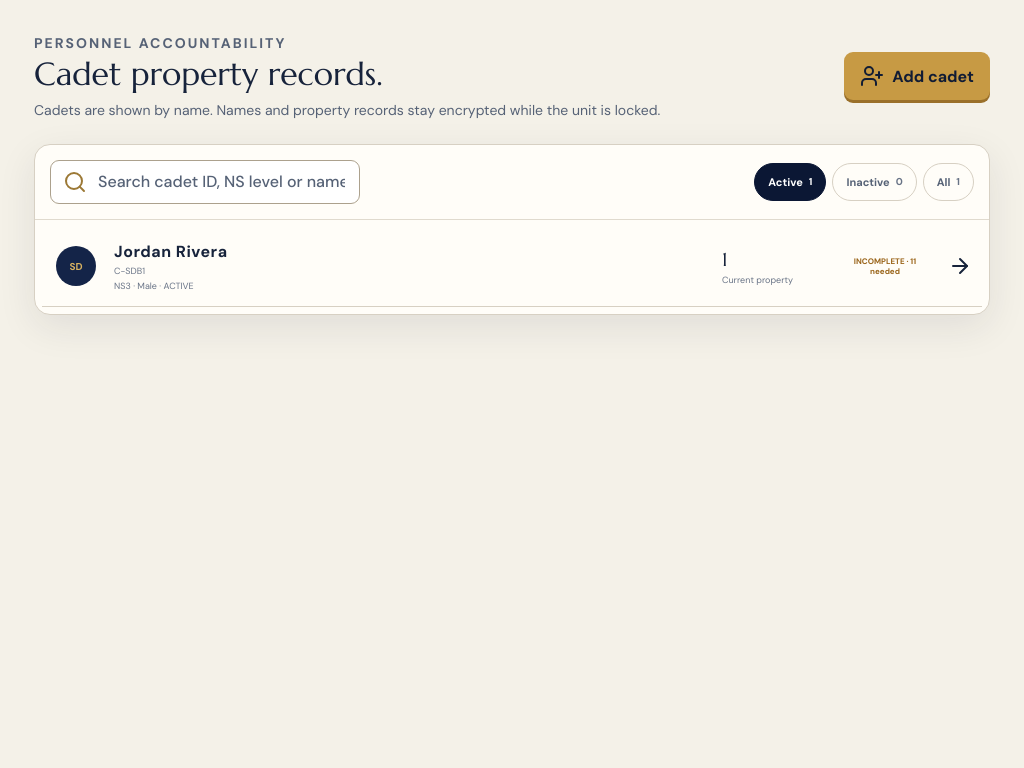
issued size correction in the cadet record (spec §12) › offers "Correct size" only to people with inventory.adjust
Click the button "C-SDB1" at (76, 266), box [42,227,982,307]
(page scrolled)
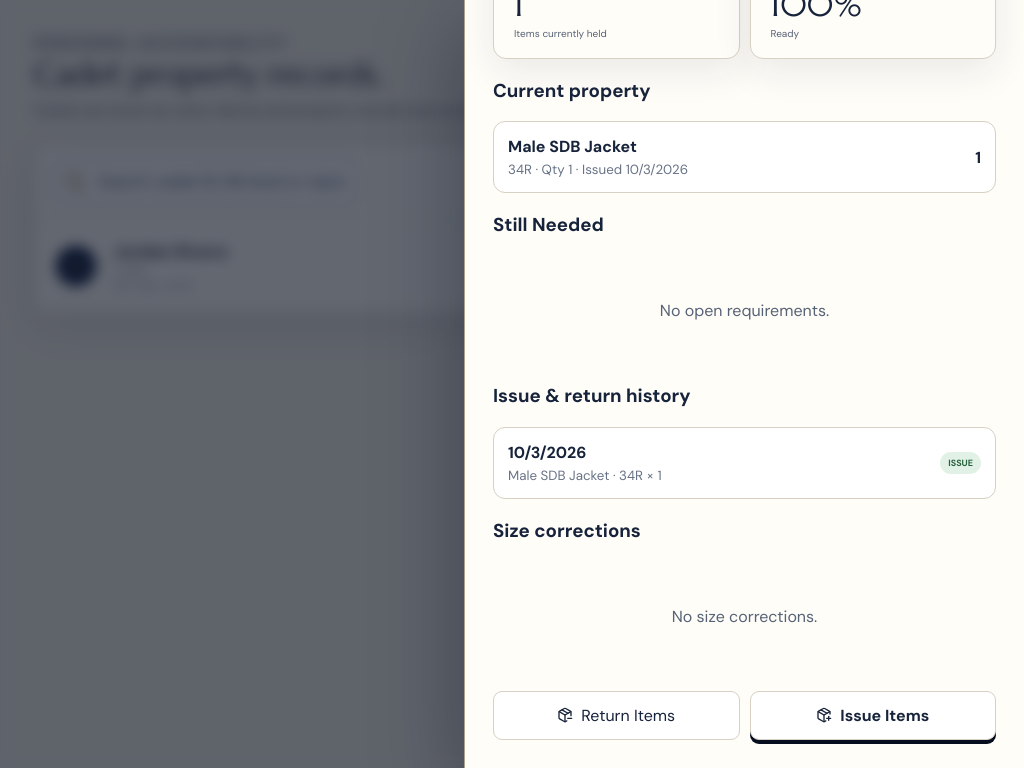
Result: the text "Male SDB Jacket" is shown at [508,136,637,157]
Result: the heading "Size corrections" is shown at [493,518,641,543]
